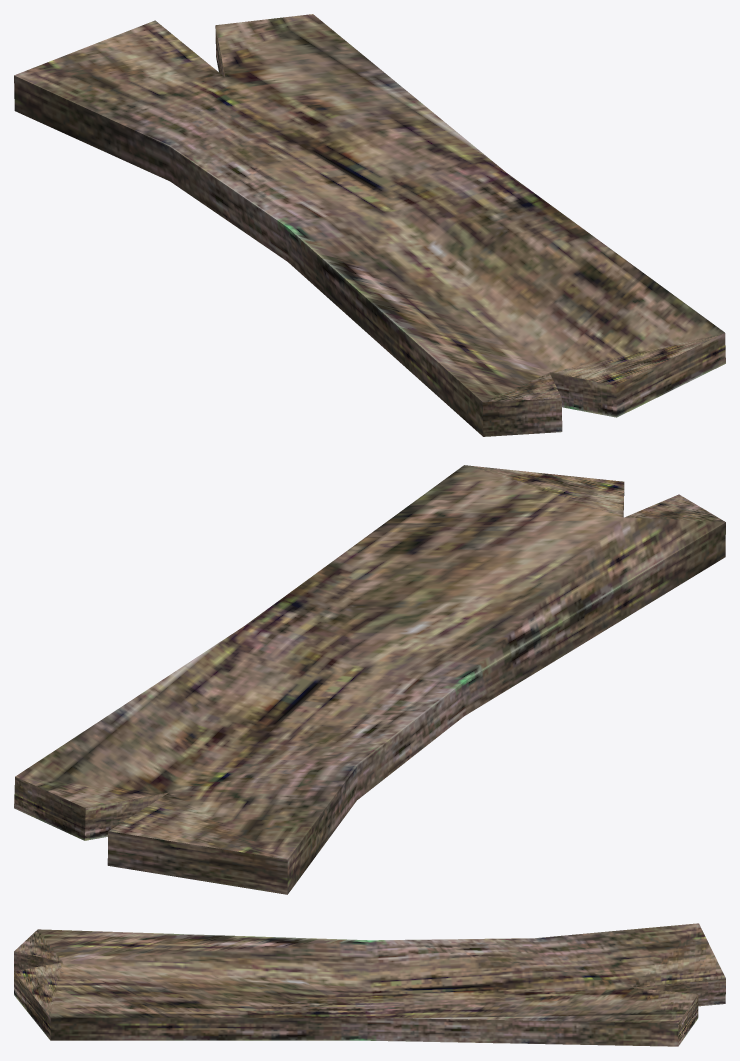
Rendered from INST_WH_FLOATBIT_01.fbx.
3 views of the same model, one above another, from view 1: azimuth 30°, elevation 25°; view 2: azimuth 150°, elevation 25°; view 3: azimuth 270°, elevation 25° (orthographic). The views are drawn at different scales.
Parts seen in each view (by area): view 1: INST_WH_FLOATBIT_01; view 2: INST_WH_FLOATBIT_01; view 3: INST_WH_FLOATBIT_01.
Boxes of the visible parts, <box> form: INST_WH_FLOATBIT_01: <box>14,14,725,436</box>; INST_WH_FLOATBIT_01: <box>14,465,725,894</box>; INST_WH_FLOATBIT_01: <box>14,923,725,1046</box>.
Size of the model in its own units: 9859 by 1508 by 29077.
Materials: 1 (1 with a texture image).
